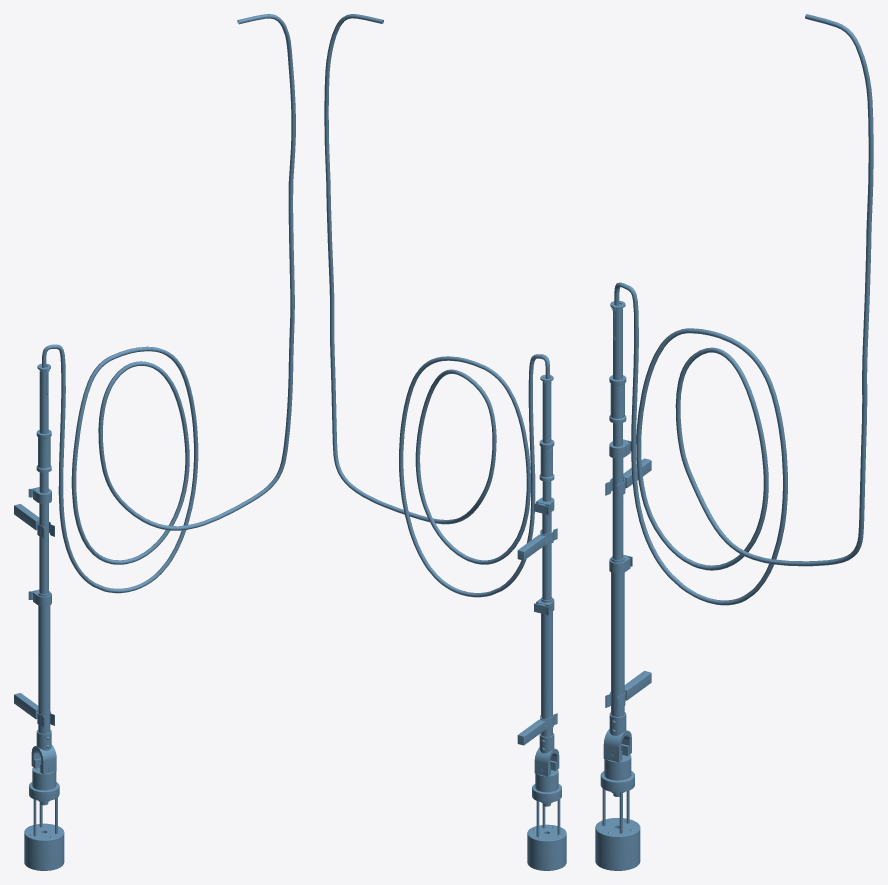
Rendered from FHXY_02BX_A21_FZD06_ZhenDuGan_MD_L_exp.fbx.
3 renders of one model, left to right at view 1: azimuth 30°, elevation 25°; view 2: azimuth 150°, elevation 25°; view 3: azimuth 330°, elevation 25°, orthographic. The views are drawn at different scales.
Parts seen in each view (by area): view 1: FHXY_02BX_A21_FZD06_ZhenDuGan_MD_L02_exp, FHXY_02BX_A21_FZD06_ZhenDuGan_MD_L01_exp, FHXY_02BX_A21_FZD06_ZhenDuGan_MD_L04_exp, FHXY_02BX_A21_FZD06_ZhenDuGan_MD_L03_exp; view 2: FHXY_02BX_A21_FZD06_ZhenDuGan_MD_L02_exp, FHXY_02BX_A21_FZD06_ZhenDuGan_MD_L01_exp, FHXY_02BX_A21_FZD06_ZhenDuGan_MD_L04_exp, FHXY_02BX_A21_FZD06_ZhenDuGan_MD_L03_exp; view 3: FHXY_02BX_A21_FZD06_ZhenDuGan_MD_L02_exp, FHXY_02BX_A21_FZD06_ZhenDuGan_MD_L01_exp, FHXY_02BX_A21_FZD06_ZhenDuGan_MD_L04_exp, FHXY_02BX_A21_FZD06_ZhenDuGan_MD_L03_exp.
Boxes of the visible parts, <box> form: FHXY_02BX_A21_FZD06_ZhenDuGan_MD_L02_exp: <box>42,14,295,593</box>; FHXY_02BX_A21_FZD06_ZhenDuGan_MD_L01_exp: <box>28,363,56,774</box>; FHXY_02BX_A21_FZD06_ZhenDuGan_MD_L04_exp: <box>24,758,64,870</box>; FHXY_02BX_A21_FZD06_ZhenDuGan_MD_L03_exp: <box>14,504,54,728</box>; FHXY_02BX_A21_FZD06_ZhenDuGan_MD_L02_exp: <box>324,14,549,597</box>; FHXY_02BX_A21_FZD06_ZhenDuGan_MD_L01_exp: <box>534,374,559,776</box>; FHXY_02BX_A21_FZD06_ZhenDuGan_MD_L04_exp: <box>527,760,566,870</box>; FHXY_02BX_A21_FZD06_ZhenDuGan_MD_L03_exp: <box>517,528,557,745</box>; FHXY_02BX_A21_FZD06_ZhenDuGan_MD_L02_exp: <box>614,14,873,605</box>; FHXY_02BX_A21_FZD06_ZhenDuGan_MD_L01_exp: <box>603,301,632,762</box>; FHXY_02BX_A21_FZD06_ZhenDuGan_MD_L04_exp: <box>595,744,640,870</box>; FHXY_02BX_A21_FZD06_ZhenDuGan_MD_L03_exp: <box>605,458,651,710</box>.
Size of the model in its own units: 37.55 by 113 by 10.72.
